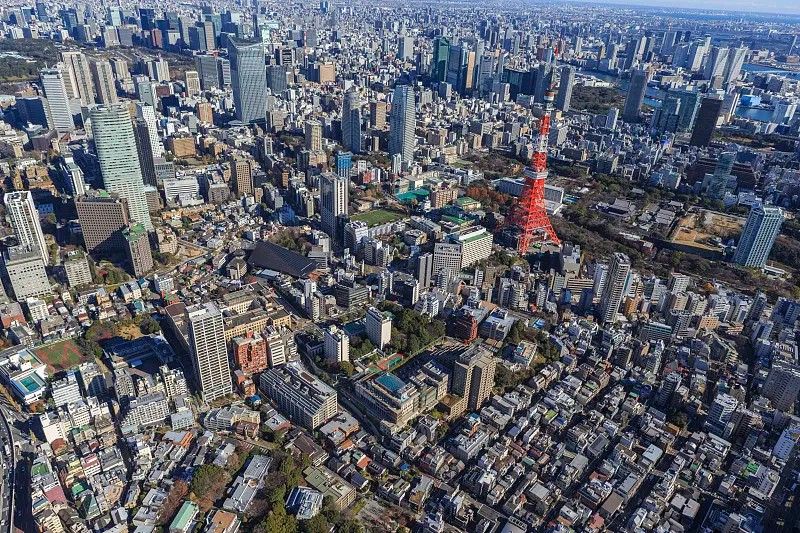Tokyo: (495, 65, 565, 256)
